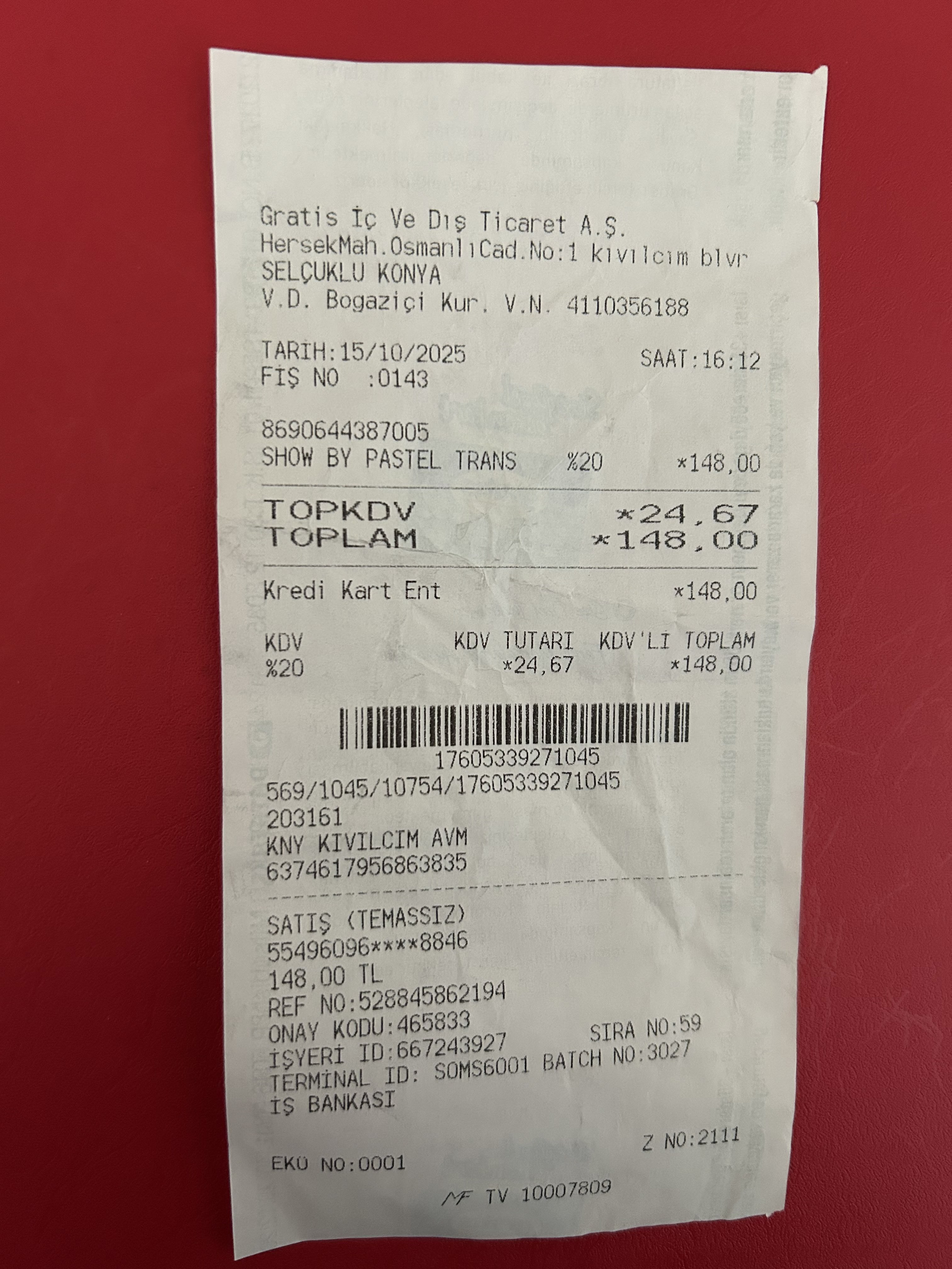date: (335, 335, 472, 365)
price: (609, 525, 766, 558)
workplace: (240, 195, 763, 290)
